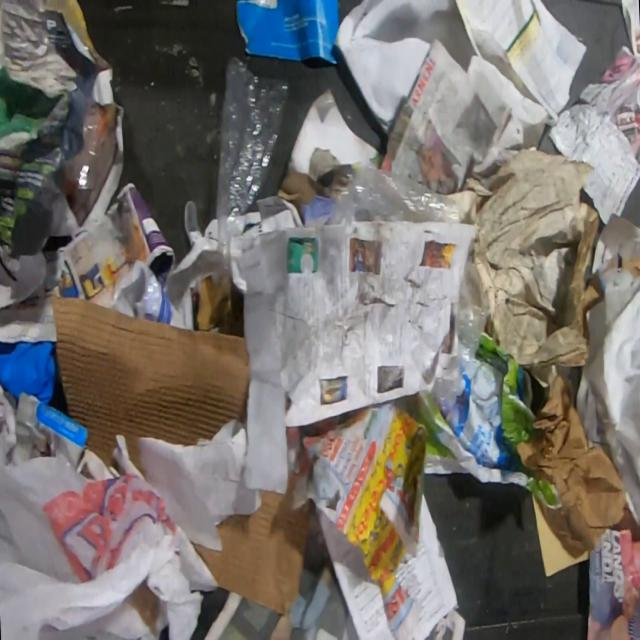cardboard: (448, 146, 606, 390), (49, 294, 250, 476), (515, 375, 626, 552), (190, 468, 310, 618), (163, 199, 222, 331), (192, 277, 246, 338), (127, 582, 162, 630)
rigid_plastic: (0, 341, 88, 448), (58, 90, 119, 228)
soft_plastic: (0, 436, 177, 640), (213, 55, 292, 278), (430, 254, 491, 419), (324, 161, 472, 226), (108, 258, 170, 322)
